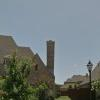Chimney: (40, 31, 69, 76)
